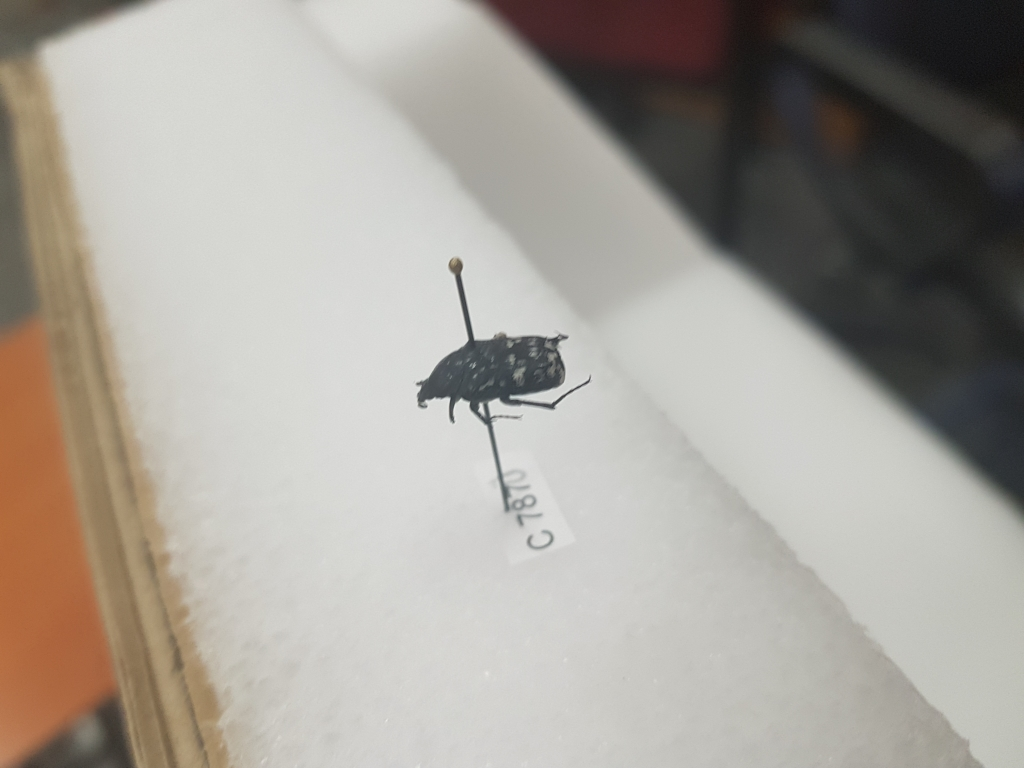Oxythyrea_albopicta: (405, 315, 594, 437)
